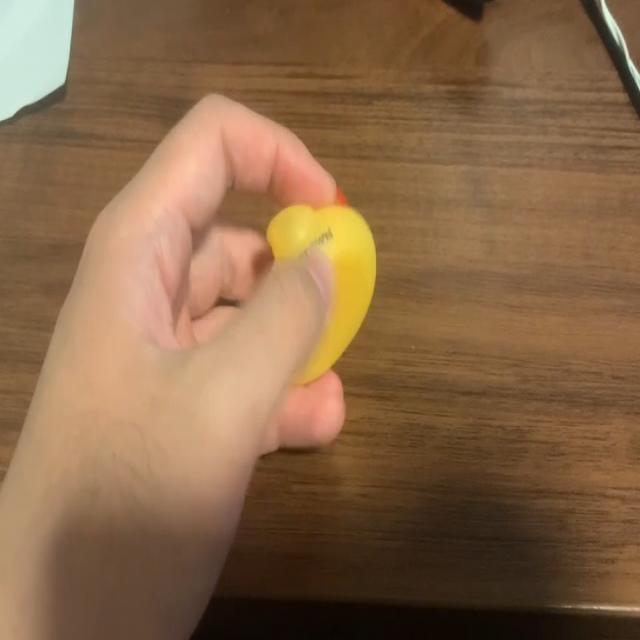rubber-duck: (266, 204, 374, 382)
